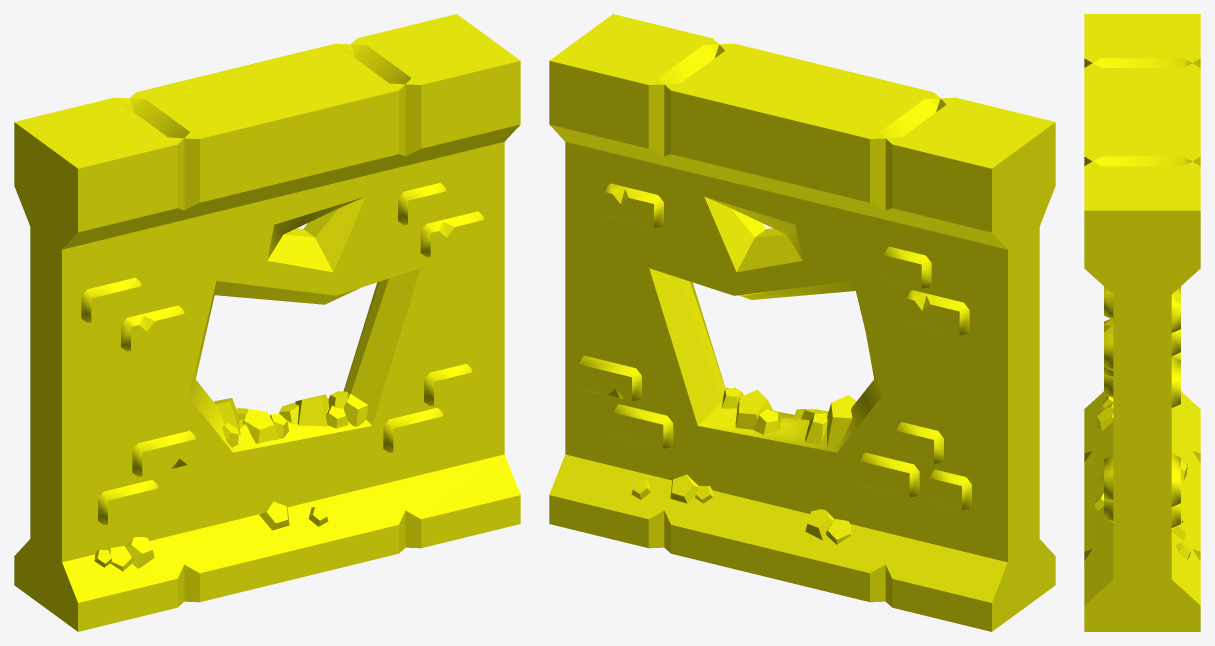
File: kaykit-dungeonremastered-wall-broken.glb
The picture shows the model from 3 angles, left to right: view 1: azimuth 30°, elevation 25°; view 2: azimuth 150°, elevation 25°; view 3: azimuth 270°, elevation 25°; orthographic projection. The views are drawn at different scales.
Visible parts, largest first — view 1: wall_broken; view 2: wall_broken; view 3: wall_broken.
Part boxes in pixels (box(x1,y1,x2,y2)): wall_broken: box(14, 14, 520, 631); wall_broken: box(549, 14, 1055, 631); wall_broken: box(1084, 14, 1200, 631).
Bounding box in the file's own units: 4 × 4 × 1.
